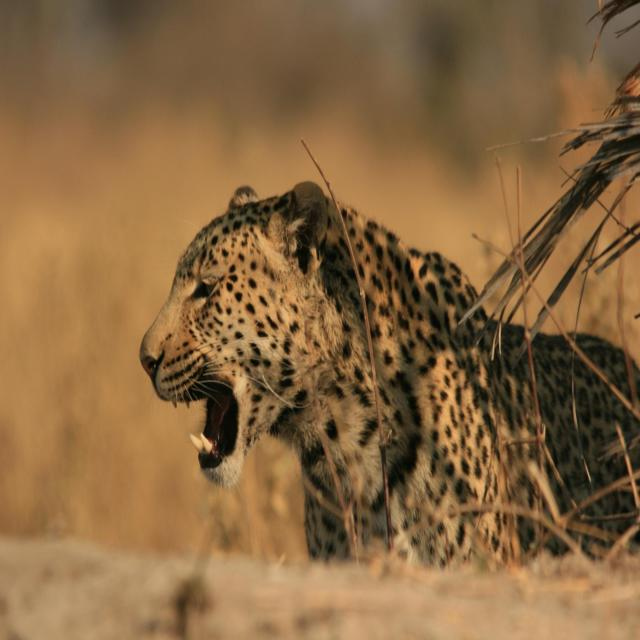Leopard: (126, 174, 640, 571)
